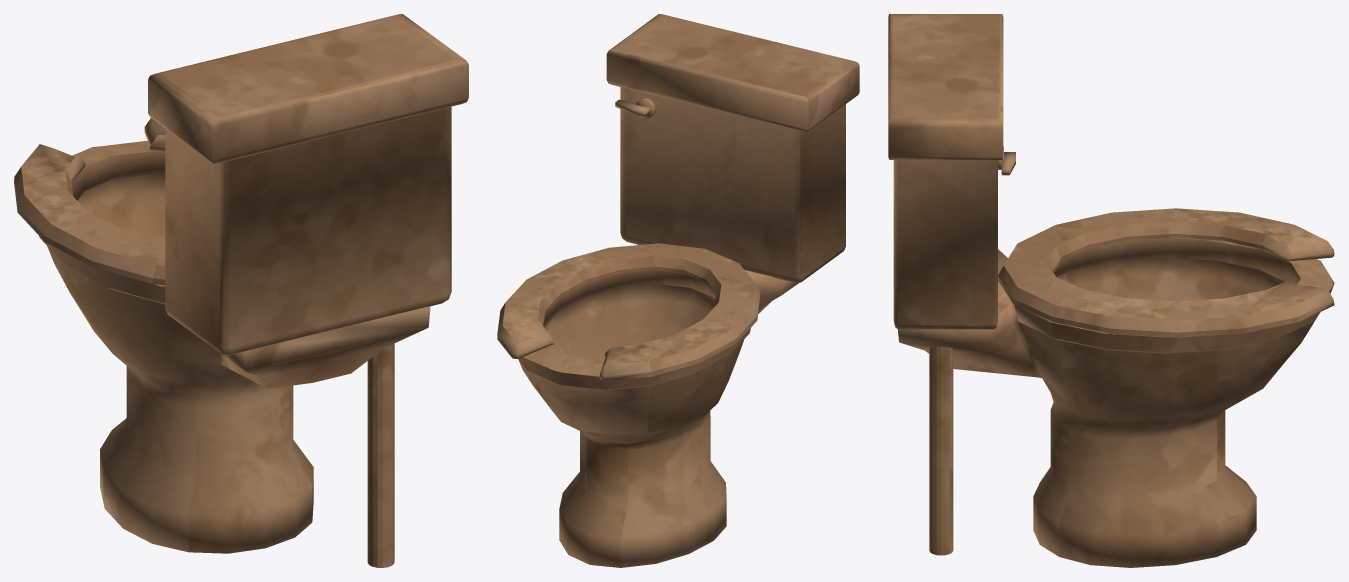
The model's file is toilet.fbx.
The picture shows the model from 3 angles, left to right: view 1: azimuth 30°, elevation 25°; view 2: azimuth 150°, elevation 25°; view 3: azimuth 270°, elevation 25°; orthographic projection. The views are drawn at different scales.
Parts seen in each view (by area): view 1: Sphere.005; view 2: Sphere.005; view 3: Sphere.005.
Boxes of the visible parts, x1,y1,x2,y2 form: Sphere.005: (14, 14, 468, 567); Sphere.005: (497, 14, 859, 567); Sphere.005: (888, 14, 1334, 567).
Size of the model in its own units: 1.62 by 2.97 by 2.61.
